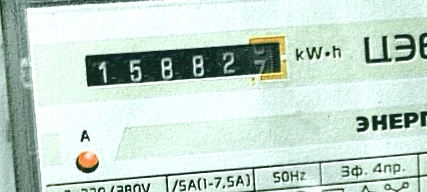1: (96, 58, 110, 85)
2: (220, 49, 238, 75)
5: (127, 57, 143, 83)
7: (251, 56, 268, 74)
8: (158, 54, 176, 80), (190, 52, 207, 78)
screen: (74, 29, 297, 101)
